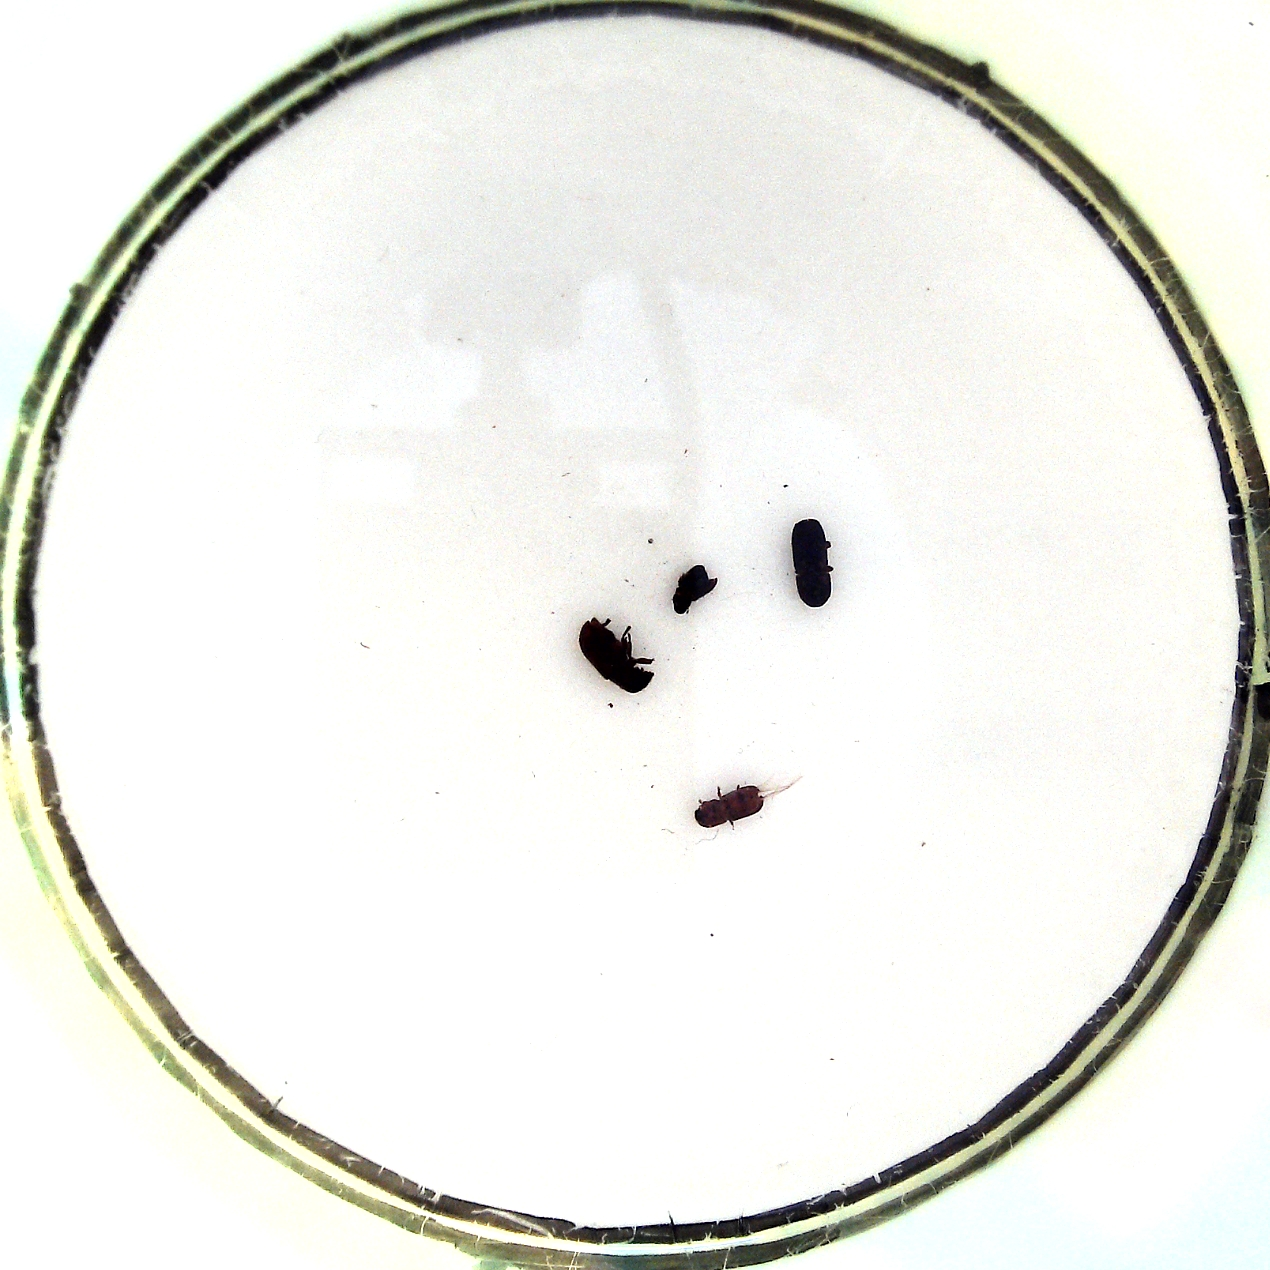Linnaeus: (789, 514, 840, 612)
acuminatus: (688, 776, 772, 830)
armandi: (576, 612, 654, 695)
coleoptera: (668, 563, 722, 619)
